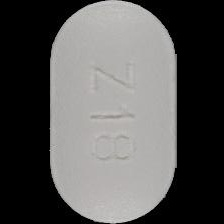68084-348: (0, 0, 224, 224)
